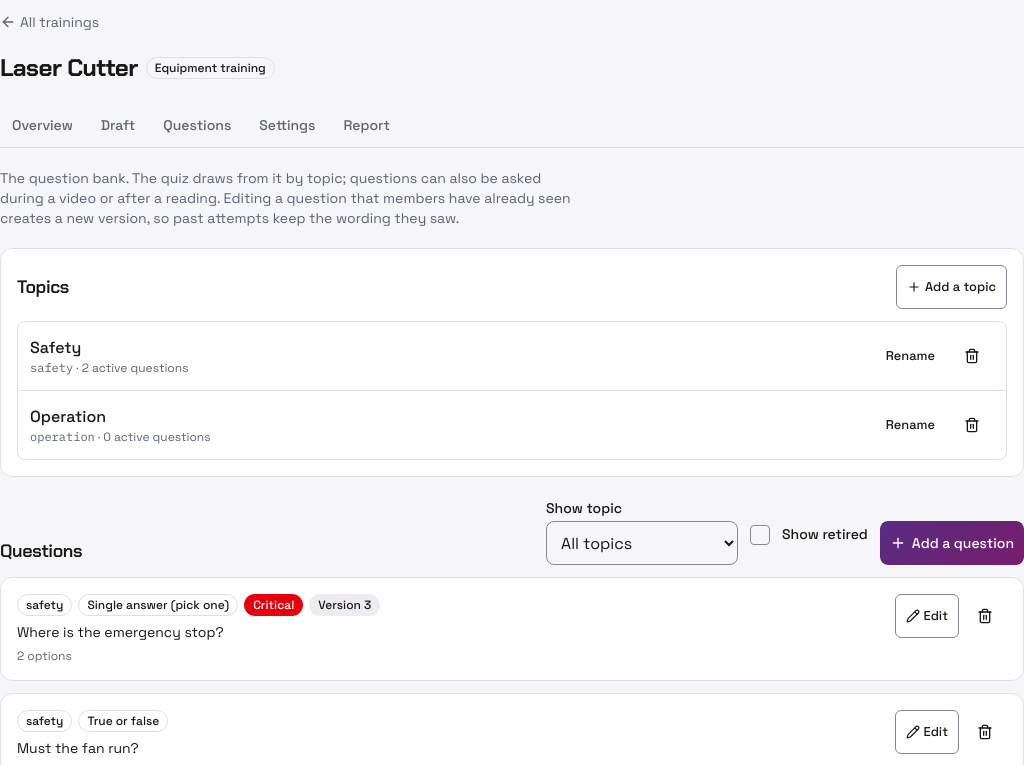
QuestionsManager › opens a question for editing with the steps it can send members back to
Expected: the heading "Laser Cutter" is shown, [0,52,138,84]
Expected: the text "Where is the emergency stop?" is shown, [17,623,224,641]
Step 1. Click the button with aria-label "edit question: where is the emergency stop" → (927, 616), box [894,594,959,638]
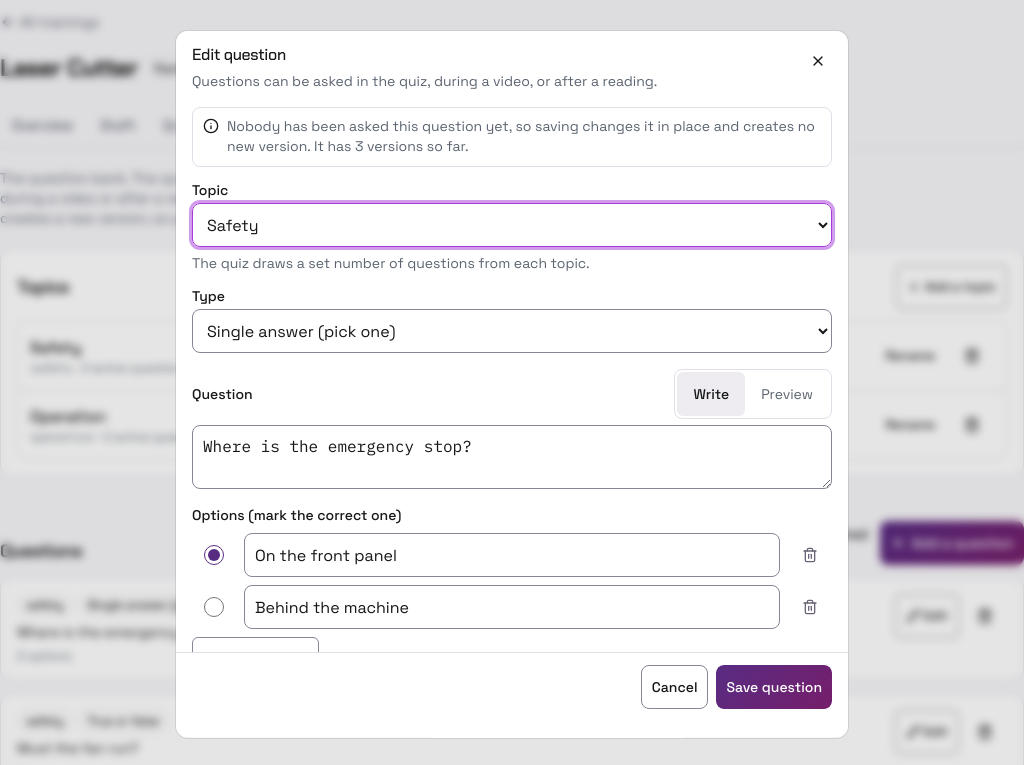
Expected: the text box labelled "Question" holds "Where is the emergency stop?", [192,425,832,489]
